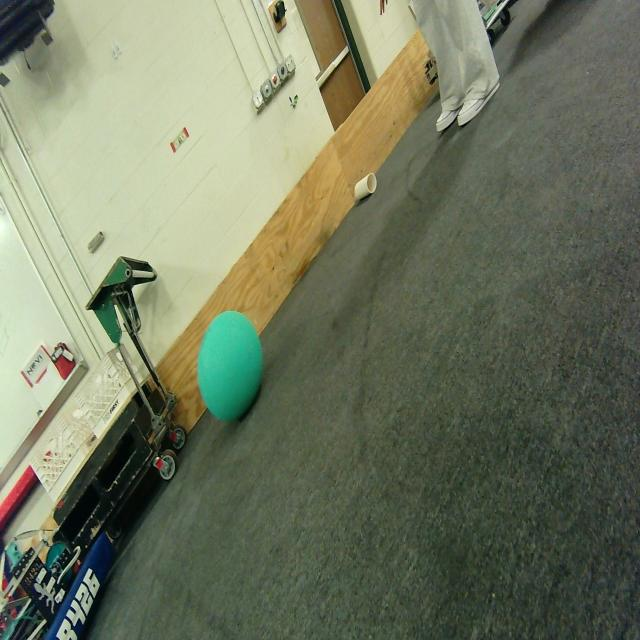algae: (190, 305, 278, 431)
coral: (353, 166, 380, 205)
